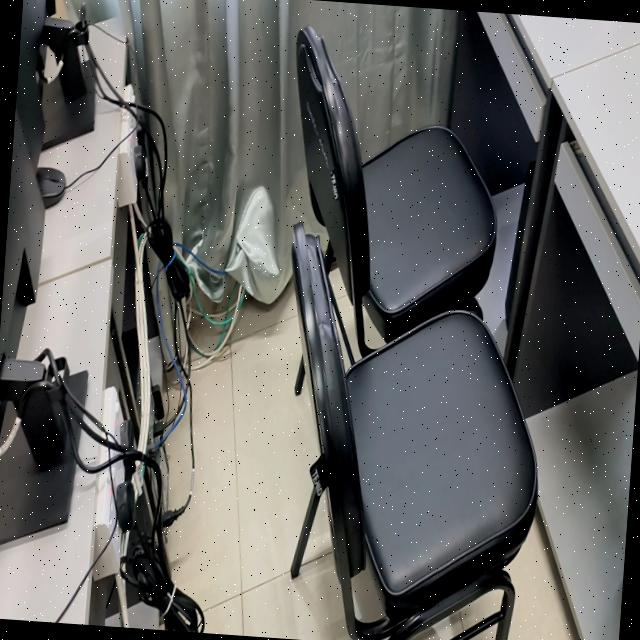Chair: (292, 221, 536, 640), (295, 26, 496, 355)
Monitor: (0, 105, 22, 366), (14, 0, 45, 169)
Mouse: (35, 165, 65, 207)
